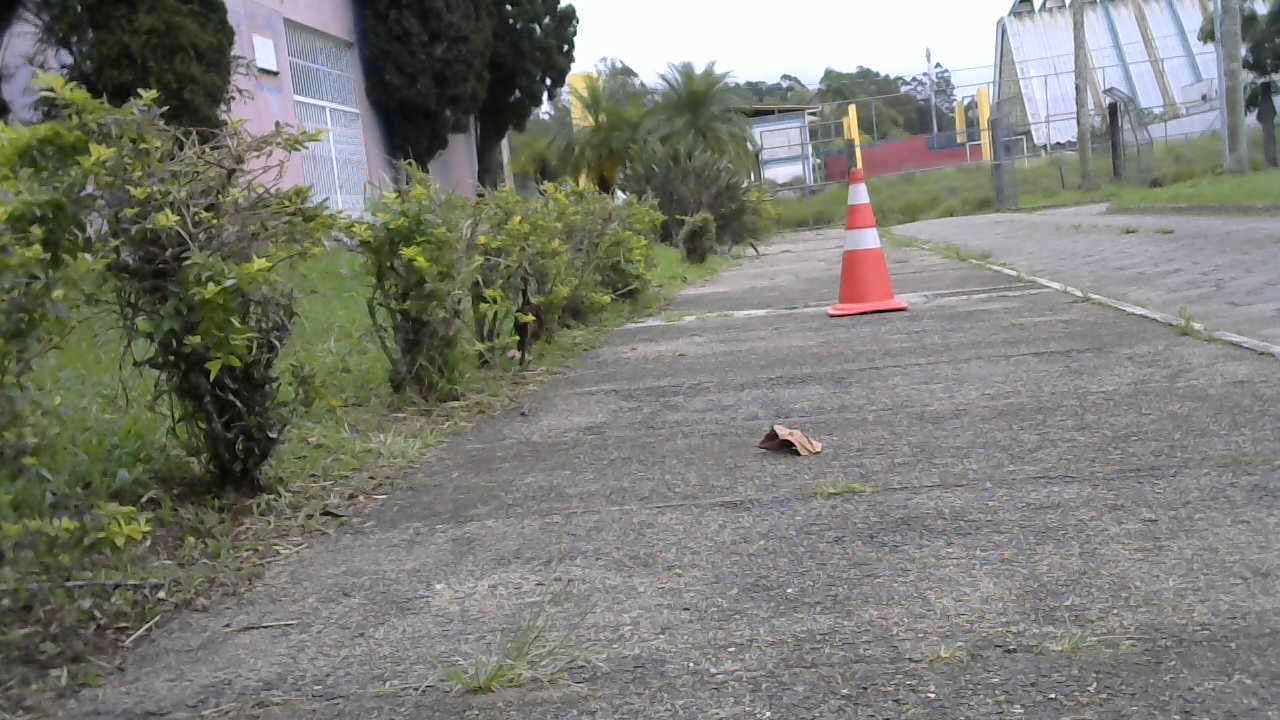cone: (827, 162, 904, 317)
